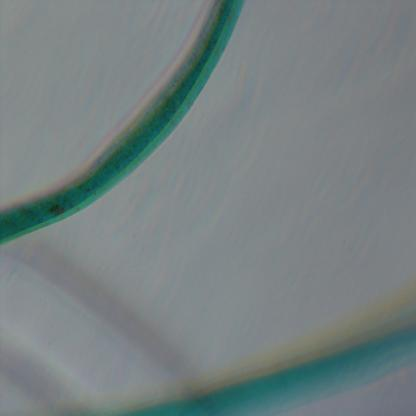Microfibre: (0, 1, 245, 246), (94, 311, 416, 415)
